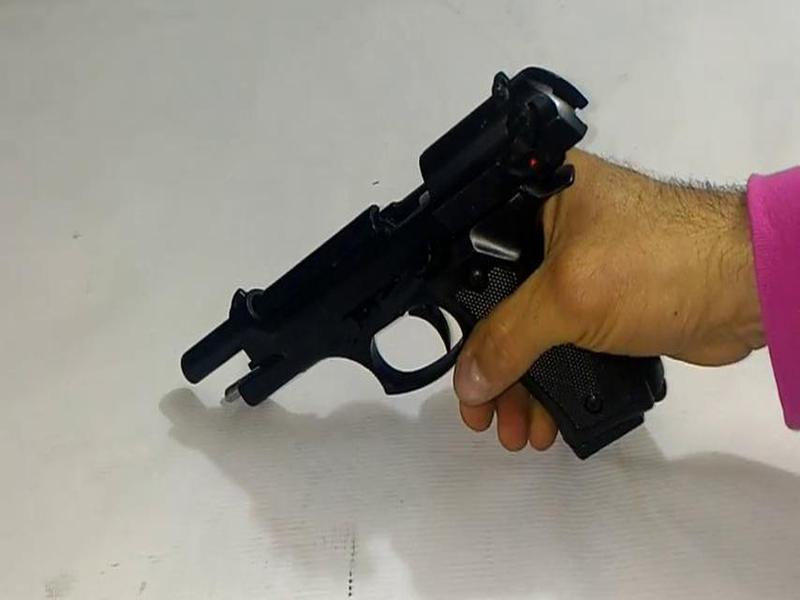Pistola: (164, 51, 717, 494)
